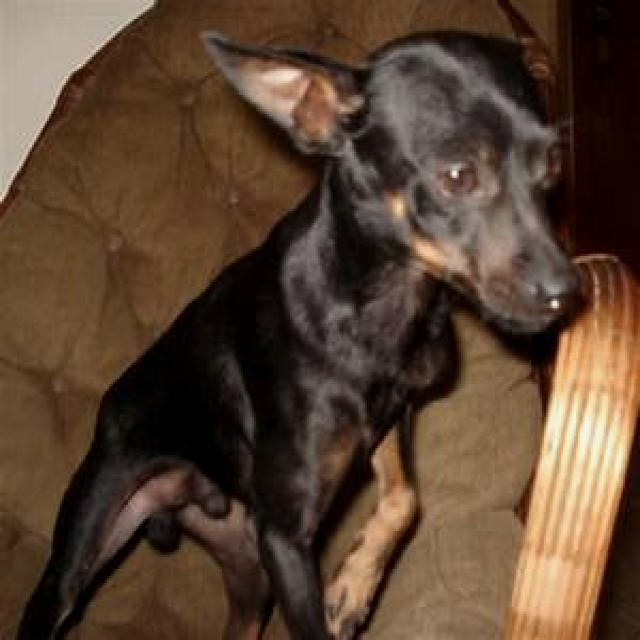KOPEK: (14, 23, 583, 640)
